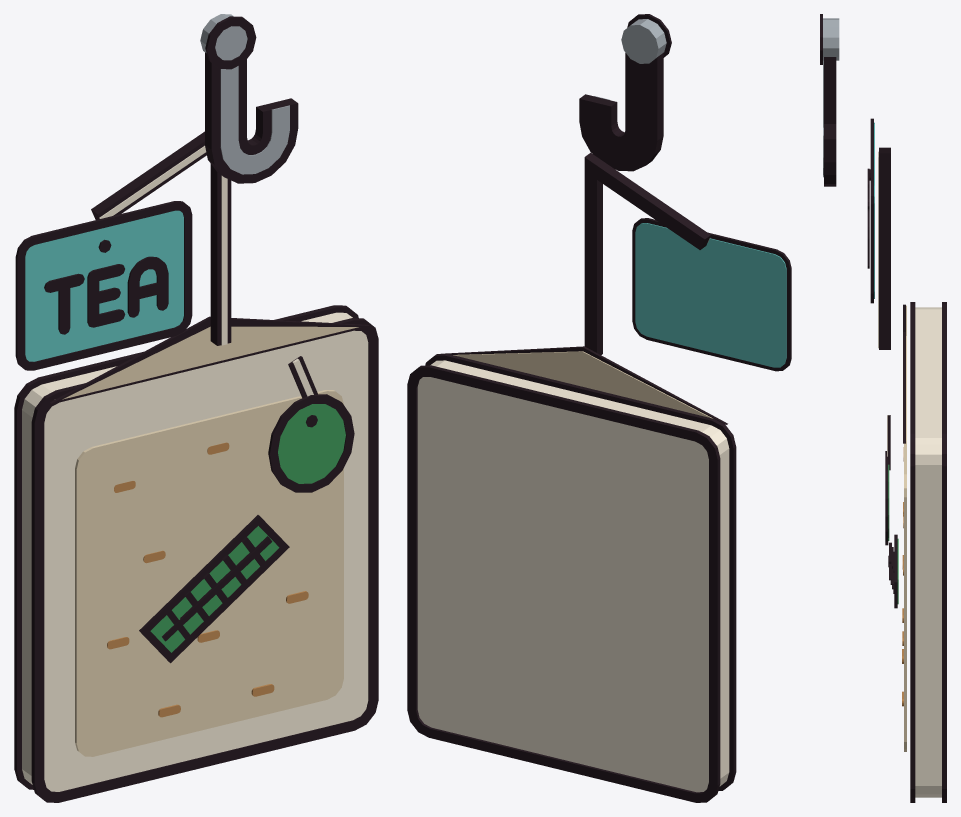
3 renders of one model, left to right at view 1: azimuth 30°, elevation 25°; view 2: azimuth 150°, elevation 25°; view 3: azimuth 270°, elevation 25°, orthographic. The views are drawn at different scales.
Visible parts, largest first — view 1: Bag Holders proposal; view 2: Bag Holders proposal; view 3: Bag Holders proposal.
Part boxes in pixels (box(x1,y1,x2,y2)): Bag Holders proposal: box(14, 14, 378, 802); Bag Holders proposal: box(407, 14, 791, 802); Bag Holders proposal: box(820, 14, 946, 802).
Size of the model in its own units: 0.5132 by 1.01 by 0.1645.
